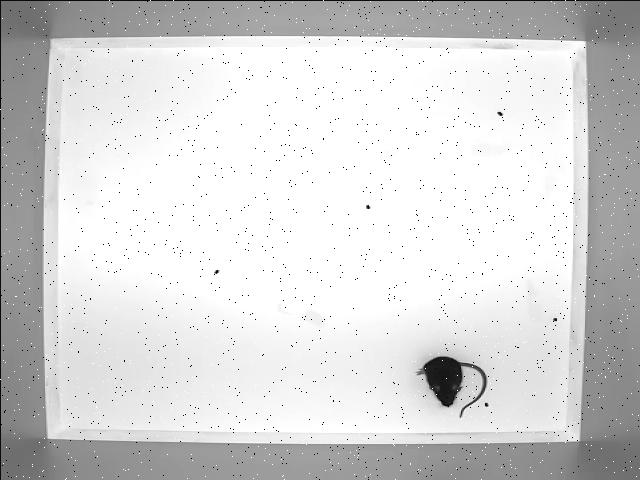Tikus: (413, 353, 488, 419)
